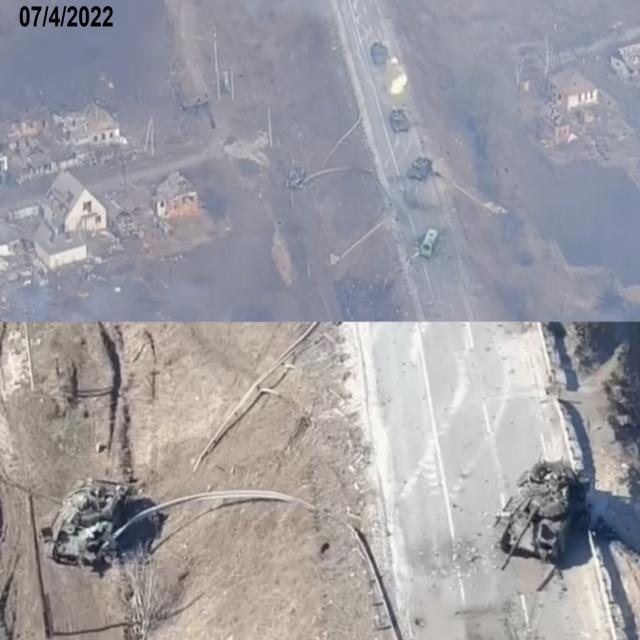cars: (421, 228, 438, 256)
tank: (493, 461, 589, 560), (42, 479, 130, 566), (408, 157, 432, 182), (389, 109, 412, 133), (370, 43, 392, 68), (285, 167, 306, 191)
